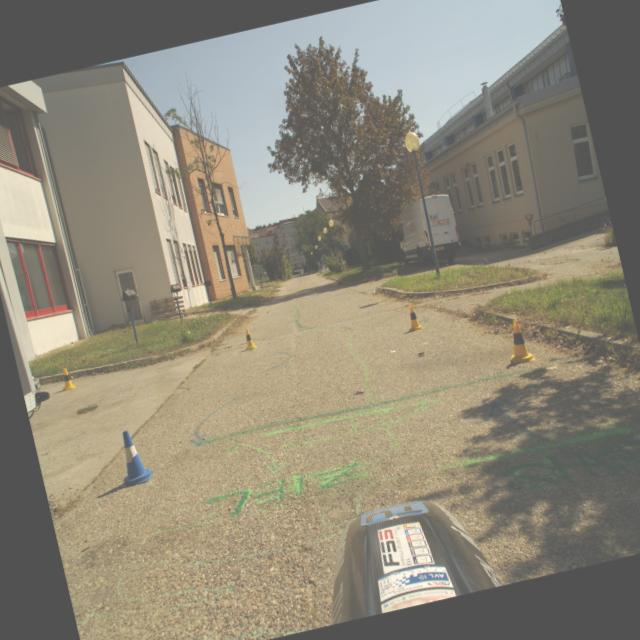blue_cone: (110, 427, 156, 488)
yellow_cone: (501, 317, 536, 366), (401, 302, 424, 332), (57, 366, 77, 392), (241, 326, 257, 351)
